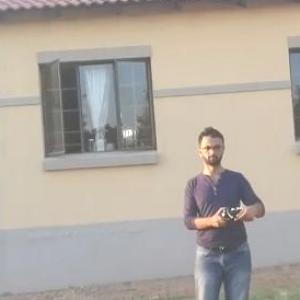follow: (176, 123, 270, 299)
